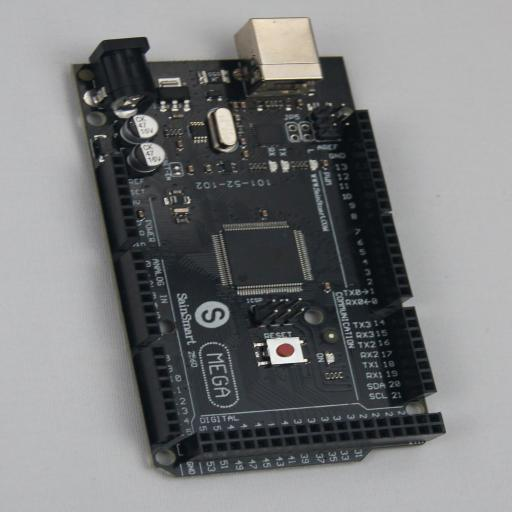Arduino Mega 2560 -Black-: (70, 17, 446, 478)
